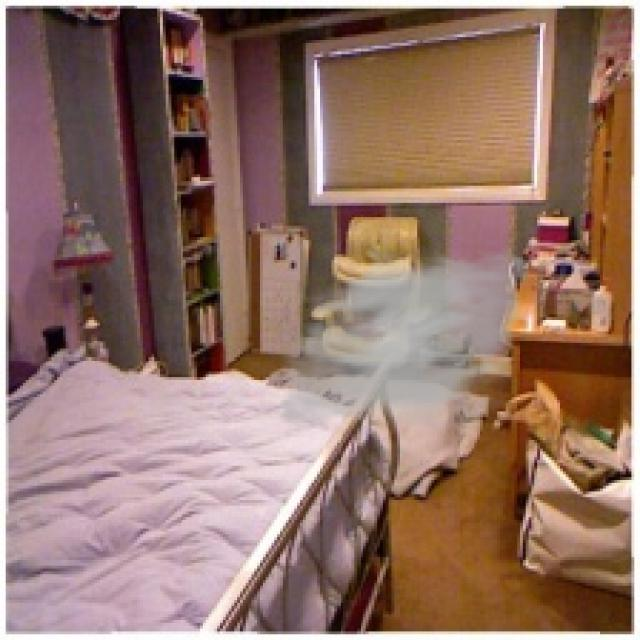smoke: (269, 237, 540, 446)
